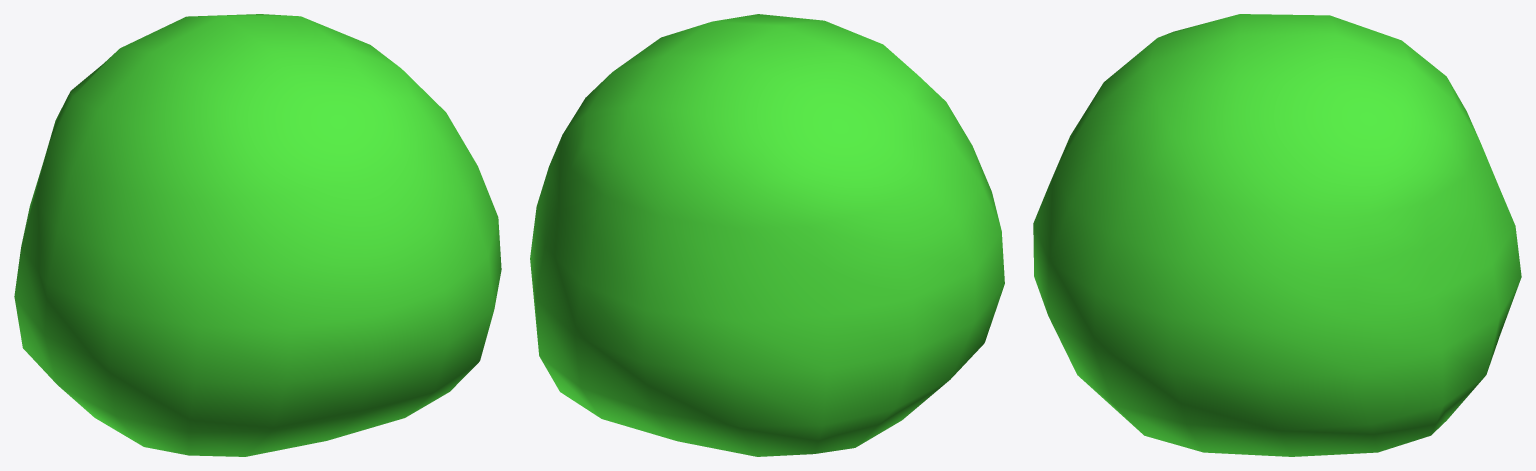
The model's file is slime.fbx.
The picture shows the model from 3 angles, left to right: view 1: azimuth 30°, elevation 25°; view 2: azimuth 150°, elevation 25°; view 3: azimuth 270°, elevation 25°; orthographic projection. The views are drawn at different scales.
Parts seen in each view (by area): view 1: slime; view 2: slime; view 3: slime.
Part boxes in pixels (x1=…): slime: x1=14, y1=14, x2=501, y2=456; slime: x1=530, y1=14, x2=1004, y2=456; slime: x1=1033, y1=14, x2=1521, y2=456.
Bounding box in the file's own units: 401 × 334 × 399.
